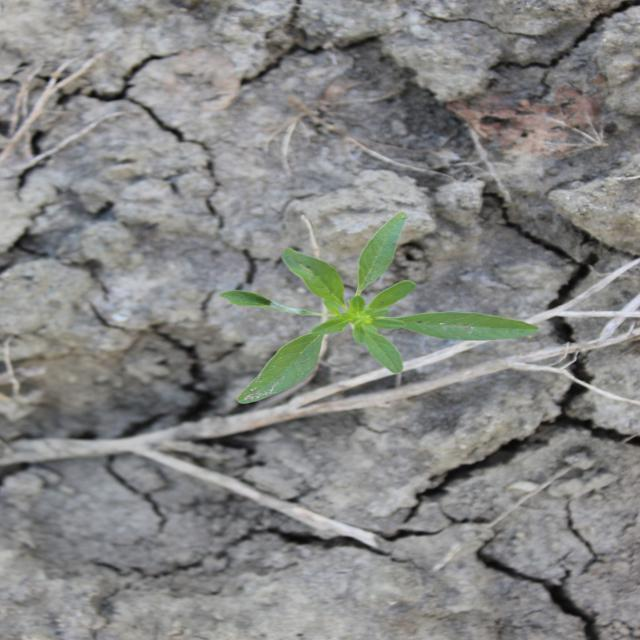Waterhemp: (218, 211, 542, 406)
